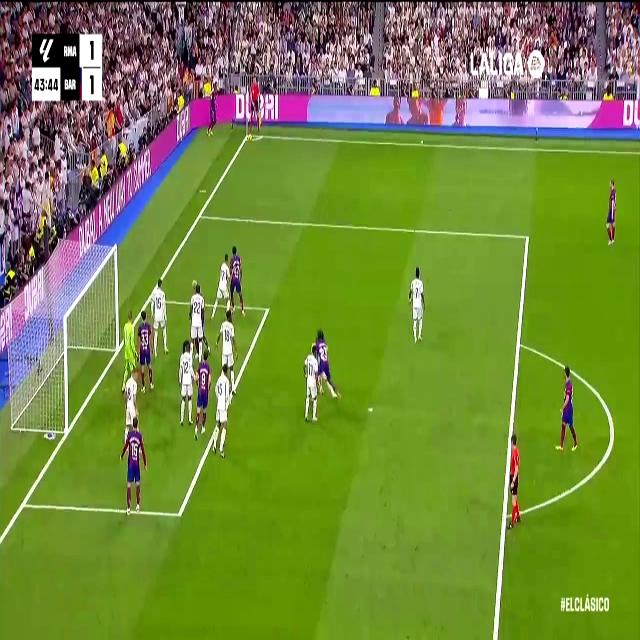bigarea_bottom_inner: (174, 499, 185, 528)
bigarea_top_outter: (196, 208, 204, 222)
corner: (242, 130, 252, 142)
smallarea_bottom_outter: (19, 492, 28, 516)
smallarea_top_inner: (262, 300, 272, 320)
smallarea_top_outter: (136, 306, 143, 320)
